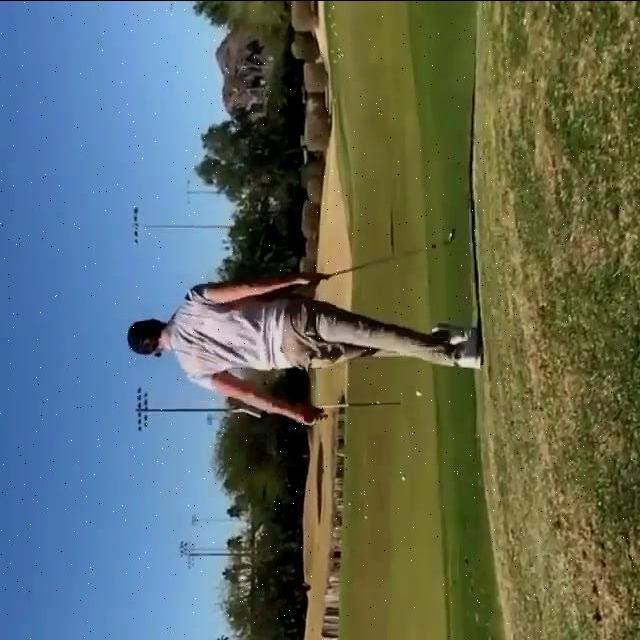ClubHandle: (329, 229, 455, 276)
ClubHead: (447, 228, 455, 241)
GolfBall: (416, 388, 421, 395), (402, 475, 406, 480)
